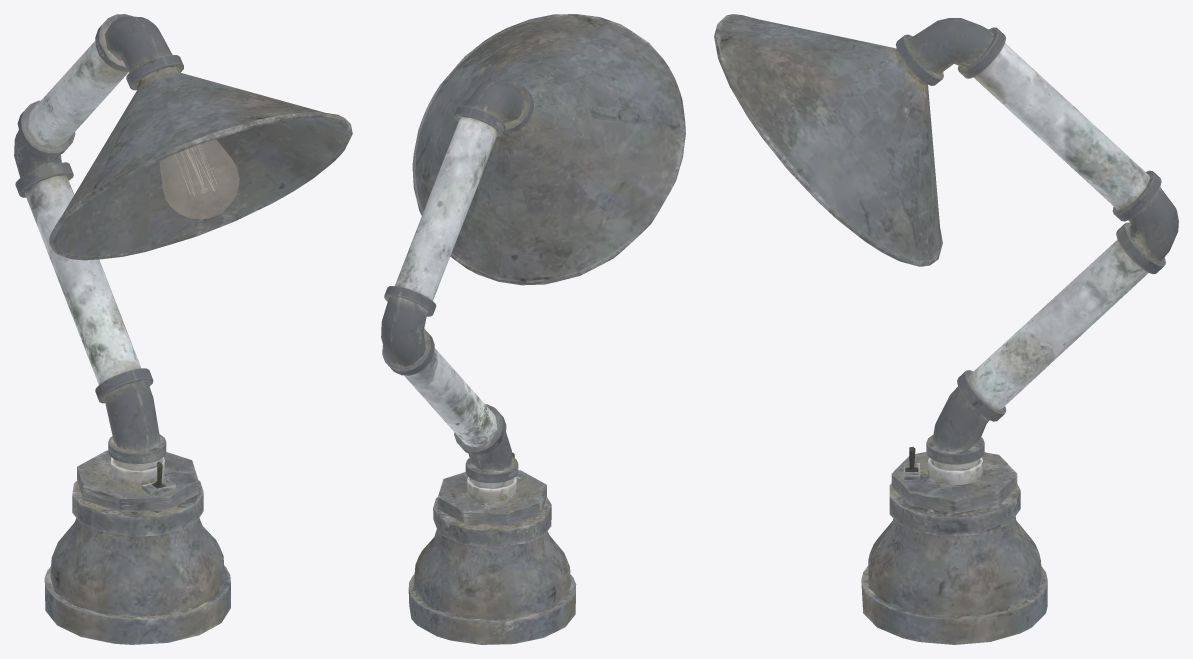
The model's file is desk_lamp.glb.
3 views of the same model, side by side, from view 1: azimuth 30°, elevation 25°; view 2: azimuth 150°, elevation 25°; view 3: azimuth 270°, elevation 25° (orthographic). The views are drawn at different scales.
Visible parts, largest first — view 1: industrial_pipe_lamp, industrial_pipe_lamp_bulb; view 2: industrial_pipe_lamp; view 3: industrial_pipe_lamp.
Boxes of the visible parts, bbox=[...] form: industrial_pipe_lamp: bbox=[14, 14, 352, 644]; industrial_pipe_lamp_bulb: bbox=[159, 139, 239, 219]; industrial_pipe_lamp: bbox=[381, 14, 685, 644]; industrial_pipe_lamp: bbox=[714, 14, 1178, 644].
Size of the model in its own units: 0.1826 by 0.3641 by 0.2621.
Materials: 2 (2 with a texture image).
